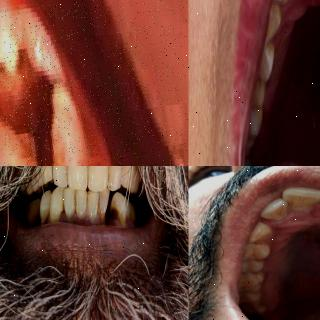calculus: (58, 194, 68, 217), (96, 196, 104, 224), (72, 198, 81, 222), (84, 196, 90, 212)
cavities: (0, 38, 113, 166), (109, 206, 123, 224)
maligned: (283, 184, 320, 217)
stains: (287, 193, 317, 214), (265, 7, 283, 38), (265, 204, 290, 219), (256, 76, 269, 104), (249, 270, 269, 287), (258, 220, 276, 238), (250, 241, 272, 255), (250, 254, 271, 268)
